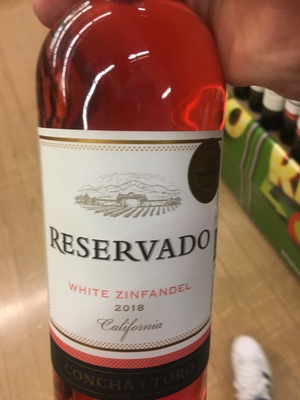reservado white zinfandel: (32, 6, 220, 395)
